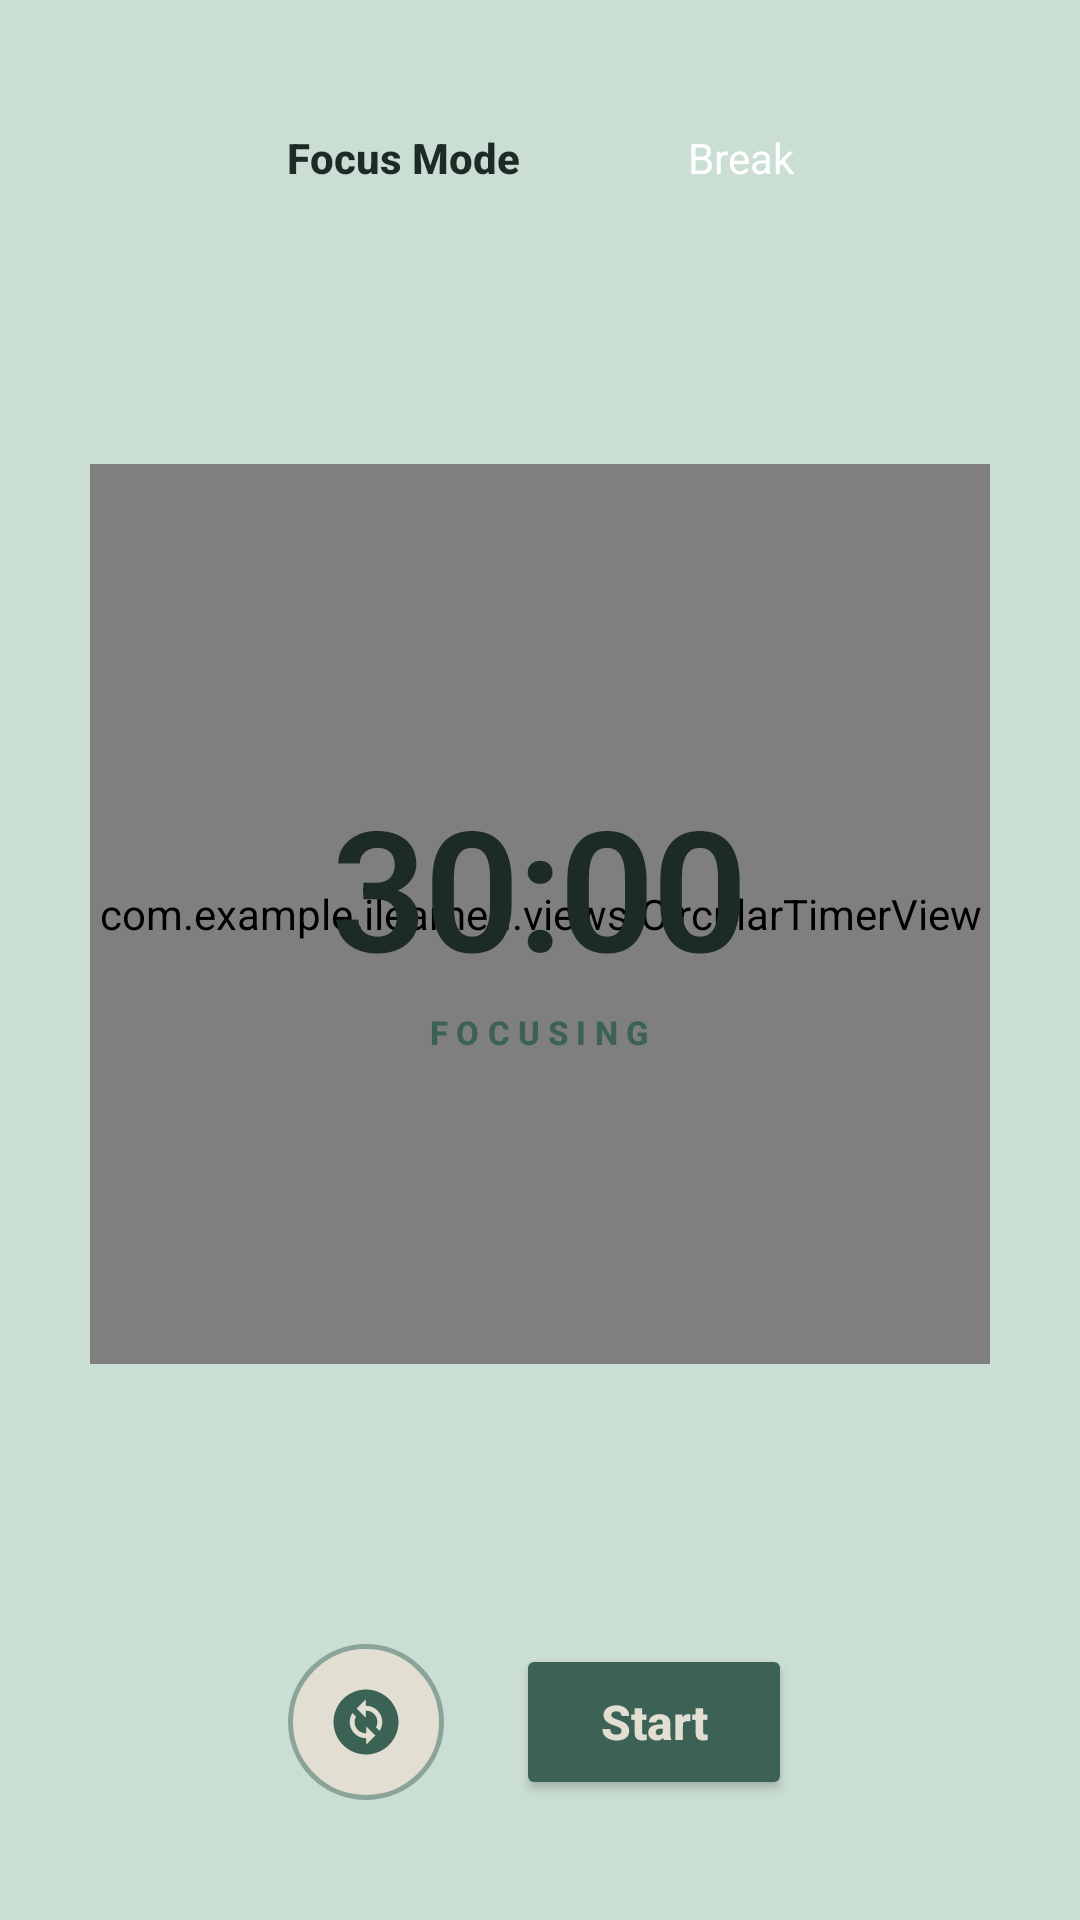

Point at icon controls on the screen. Image size 1080*1920, points as [x,y].
reset circle: [366,1722]
